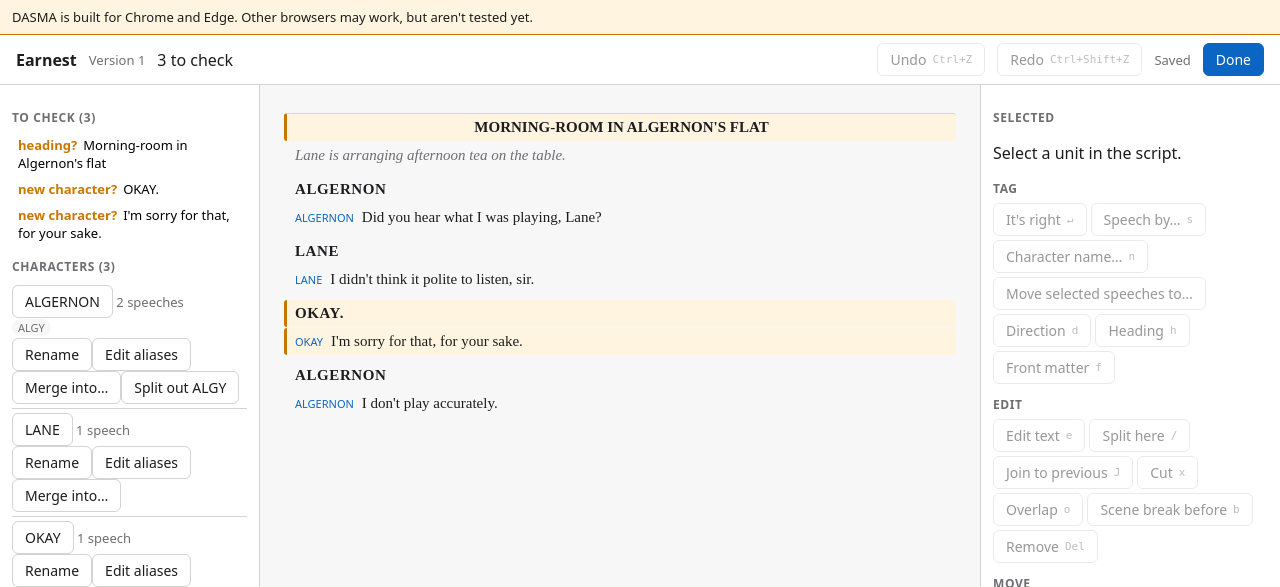
it: Fix tags: speakers and characters › starts each picker with an empty filter
Expected: the list named "Script" is shown, [284,113,956,410]
Click the option "Lane is arranging afternoon tea on the table." at point(430, 154), box [295,146,566,162]
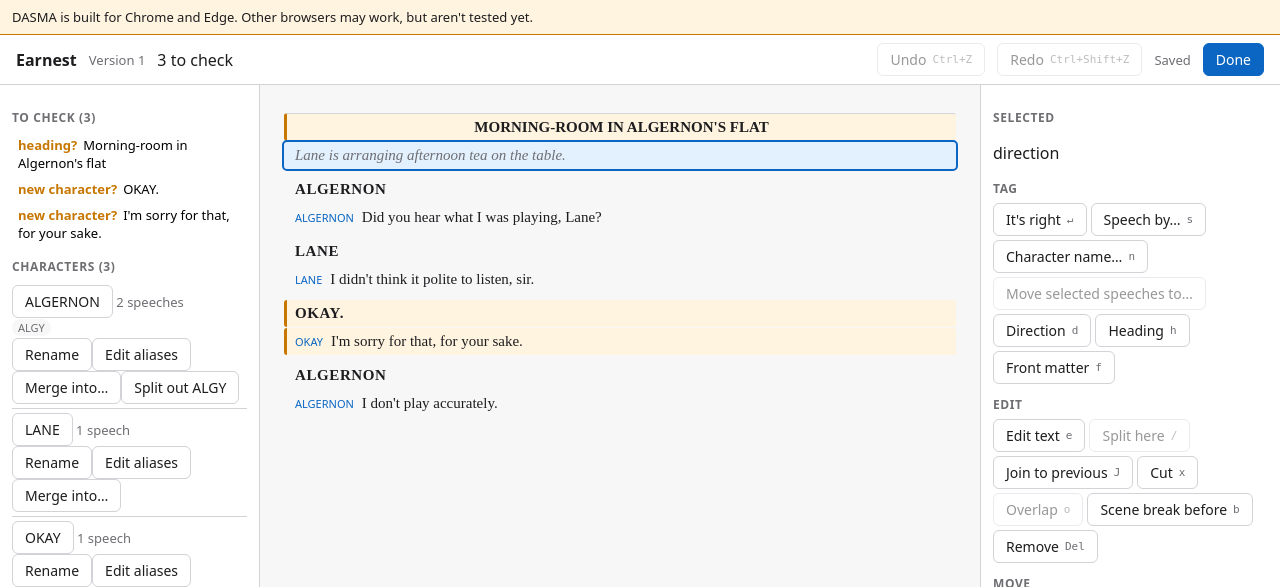
Type keys "s"
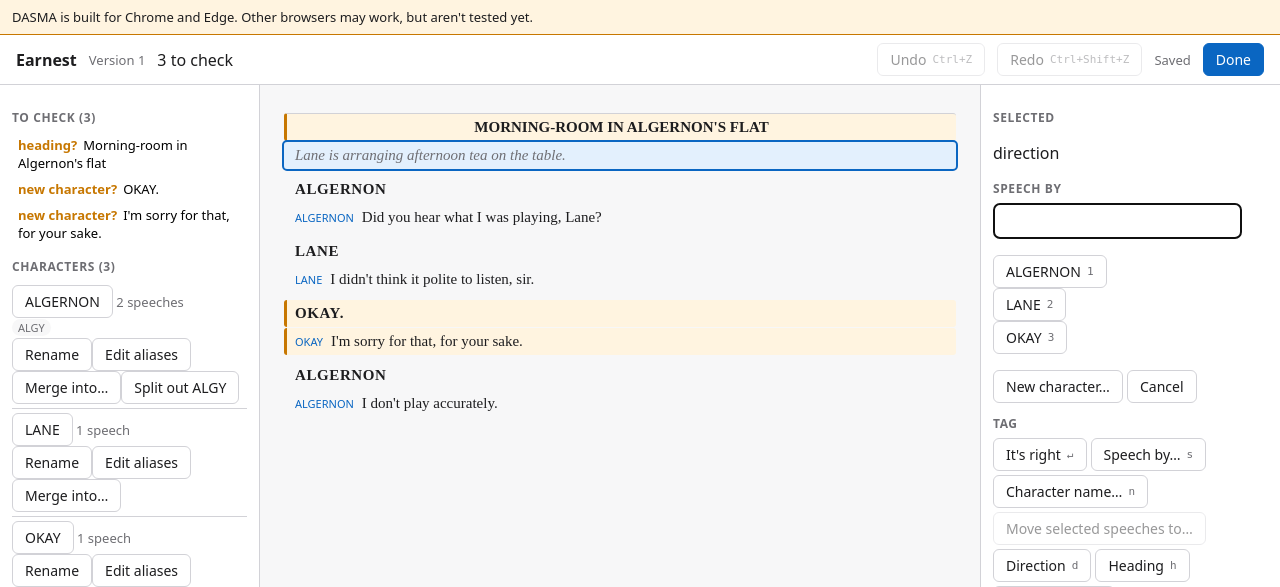
Type keys "alg"
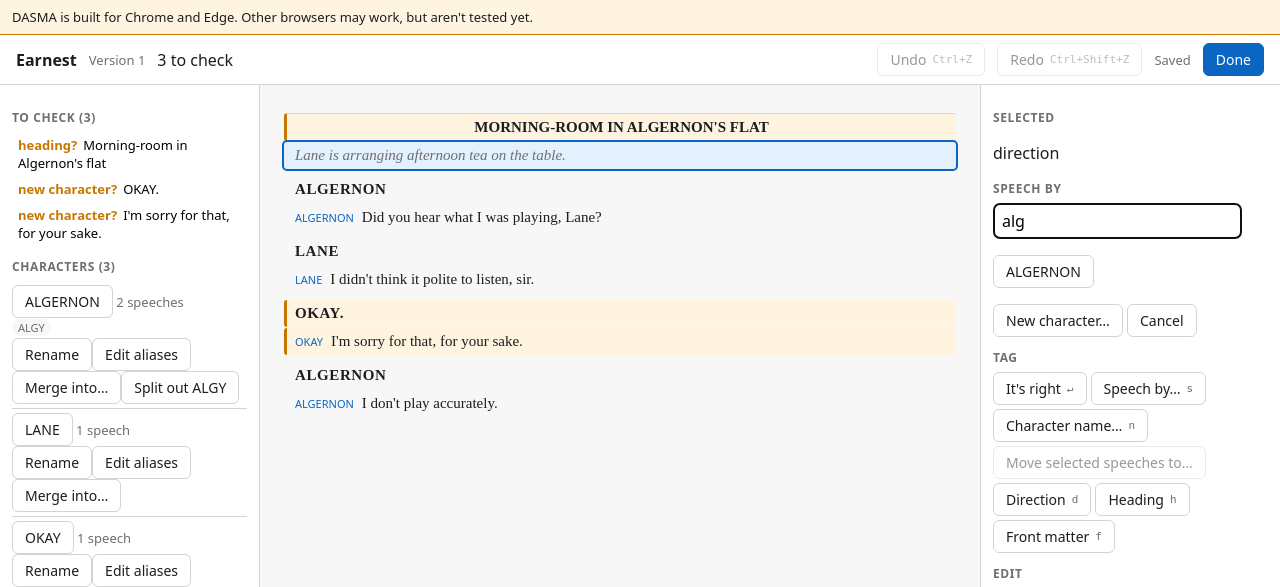
Click the button "Character name… n" at point(1070, 426), box [993,409,1148,442]
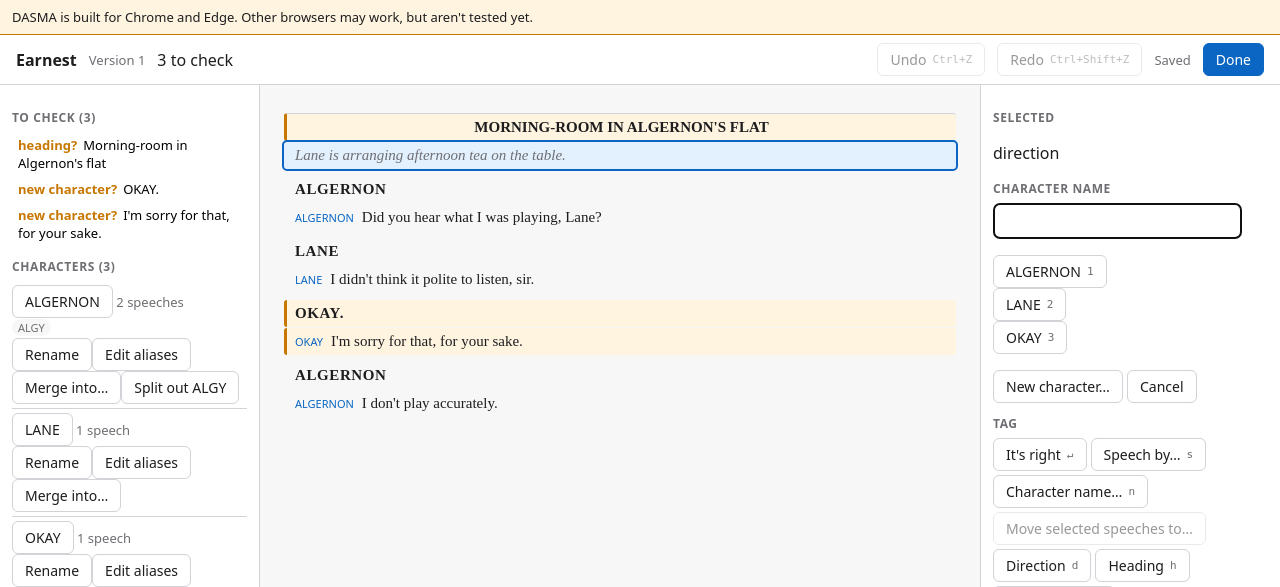
Expected: the element "Character name" is shown, [993,180,1268,403]
Expected: the field named "Find a character" is empty, [993,203,1242,239]
